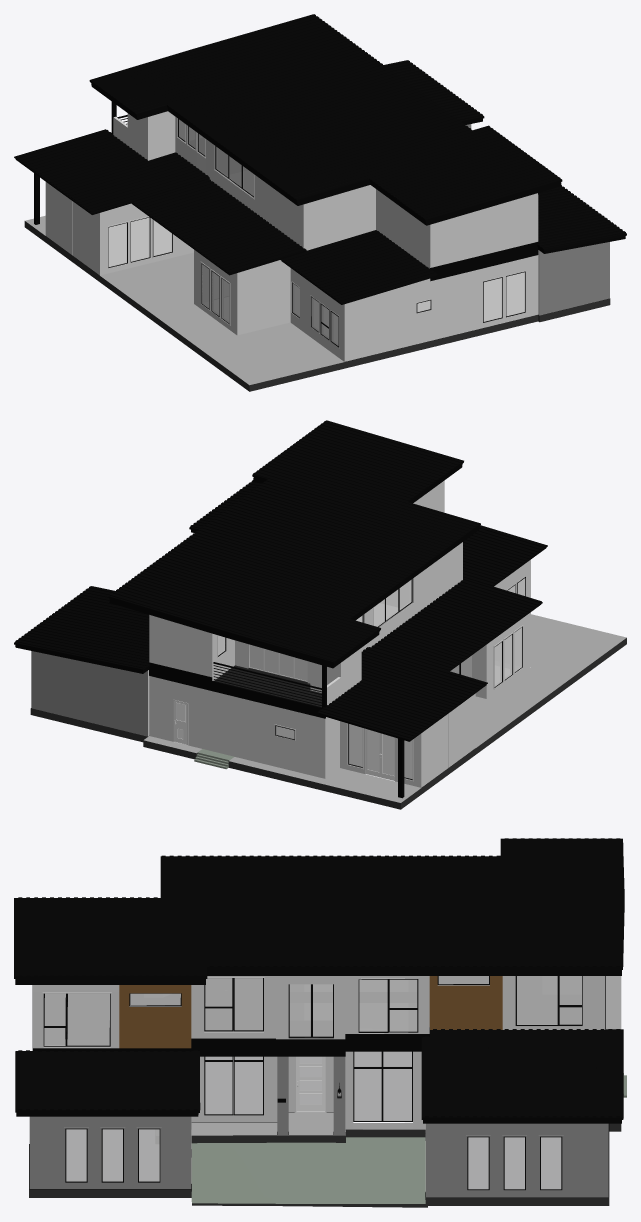
File: BlueHorizon.glb
3 renders of one model, top to bottom at view 1: azimuth 30°, elevation 25°; view 2: azimuth 150°, elevation 25°; view 3: azimuth 270°, elevation 25°, orthographic. The views are drawn at different scales.
Visible parts, largest first — view 1: ROOF.001, LF_EXT.001, TF_EXT.001, portico, WindowsBH, outermetal.001; view 2: ROOF.001, LF_EXT.001, portico, TF_EXT.001, WindowsBH, outermetal.001, TF_FLOOR, Outdoor_Door.001_d1, Door01_Support_d1.001, Laundry_Door_d1, Outdoor_Door_d1; view 3: ROOF.001, WindowsBH, LF_EXT.001, portico, TF_EXT.001, outermetal.001, Entrance_door_d1, FIREPLACE.001.
Boxes of the visible parts, x1,y1,x2,y2 form: ROOF.001: [14, 14, 626, 304]; LF_EXT.001: [45, 124, 609, 361]; TF_EXT.001: [113, 111, 538, 268]; portico: [24, 215, 610, 391]; WindowsBH: [108, 119, 525, 347]; outermetal.001: [429, 242, 538, 281]; ROOF.001: [14, 420, 547, 798]; LF_EXT.001: [31, 559, 530, 787]; portico: [30, 614, 626, 809]; TF_EXT.001: [149, 480, 462, 704]; WindowsBH: [218, 577, 525, 779]; outermetal.001: [149, 662, 325, 718]; TF_FLOOR: [214, 665, 321, 707]; Outdoor_Door.001_d1: [366, 729, 380, 777]; Door01_Support_d1.001: [249, 644, 307, 681]; Laundry_Door_d1: [173, 700, 187, 744]; Outdoor_Door_d1: [380, 733, 394, 780]; ROOF.001: [14, 838, 624, 1123]; WindowsBH: [43, 976, 582, 1190]; LF_EXT.001: [29, 1032, 608, 1197]; portico: [29, 976, 626, 1207]; TF_EXT.001: [33, 976, 605, 1048]; outermetal.001: [32, 976, 605, 1056]; Entrance_door_d1: [296, 1056, 325, 1112]; FIREPLACE.001: [44, 985, 582, 1115].
Bounding box in the file's own units: 24.33 × 8.6 × 25.06.
